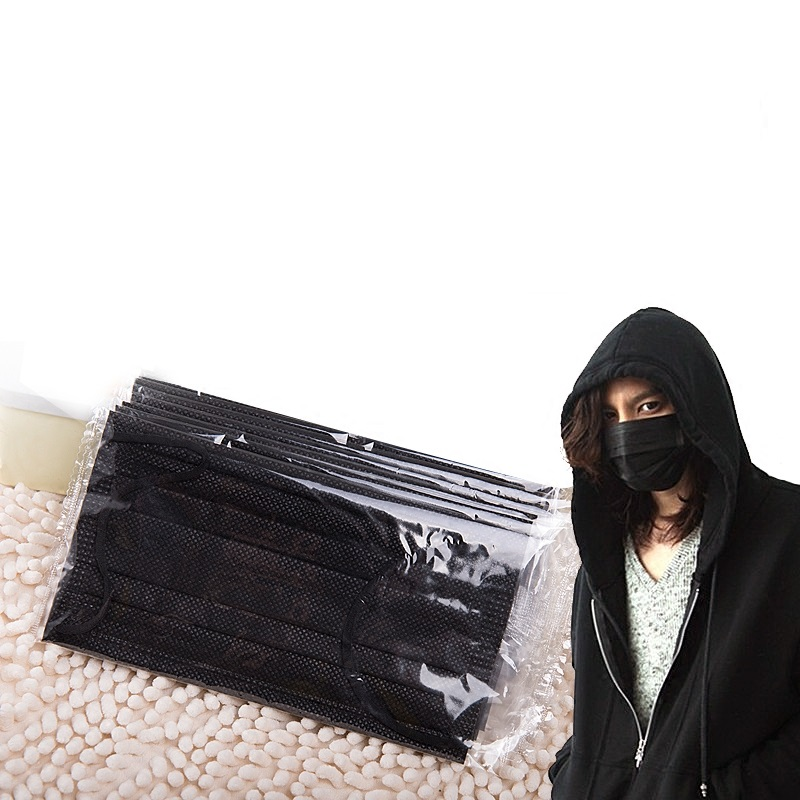face_mask: (598, 390, 685, 491)
